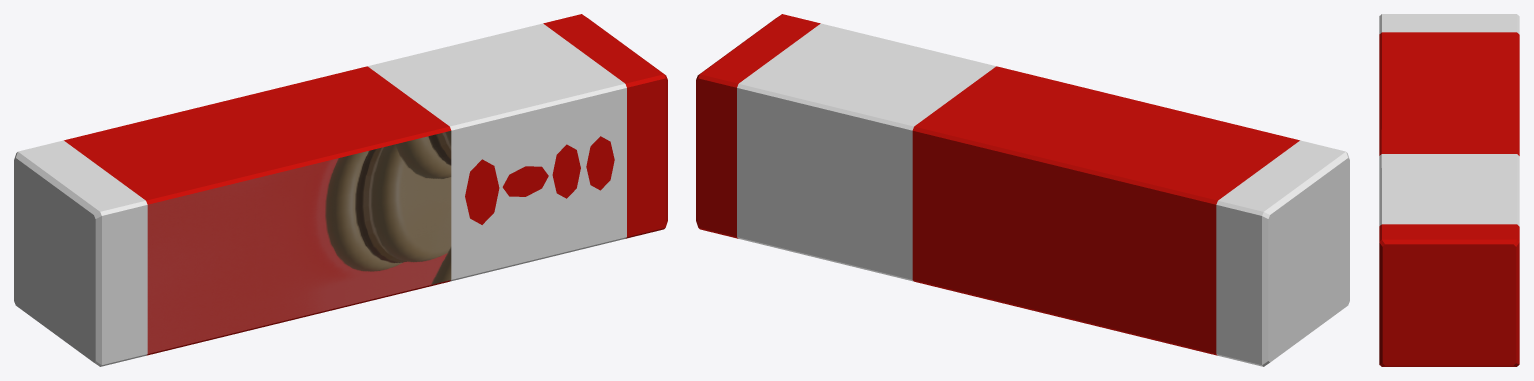
File: Ma_Cookies_2.fbx
3 views of the same model, side by side, from view 1: azimuth 30°, elevation 25°; view 2: azimuth 150°, elevation 25°; view 3: azimuth 270°, elevation 25° (orthographic). The views are drawn at different scales.
Visible parts, largest first — view 1: Ma_Cookies_2; view 2: Ma_Cookies_2; view 3: Ma_Cookies_2.
Part boxes in pixels (bbox=[...]): Ma_Cookies_2: bbox=[14, 14, 667, 366]; Ma_Cookies_2: bbox=[696, 14, 1349, 366]; Ma_Cookies_2: bbox=[1379, 14, 1519, 366].
Bounding box in the file's own units: 209 × 54.39 × 54.09.
